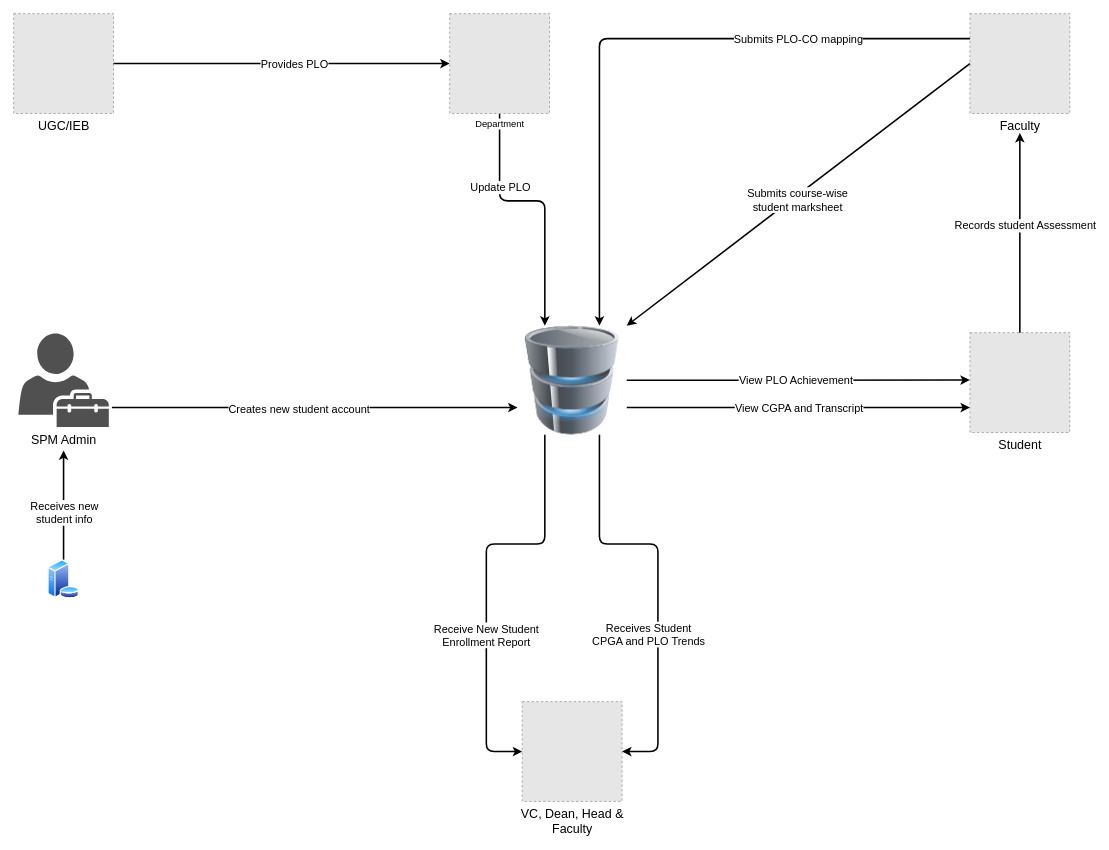
Image size: 1109x850. Some labels were removed from this diagram. Grey dashed boxes stand in for pictures. Here are the shapes that lost their labels. From the top down, the centre of each, then its label:
At (x=571, y=379): "SPM DB".
At (x=63, y=578): "Registrar's Office DB".
